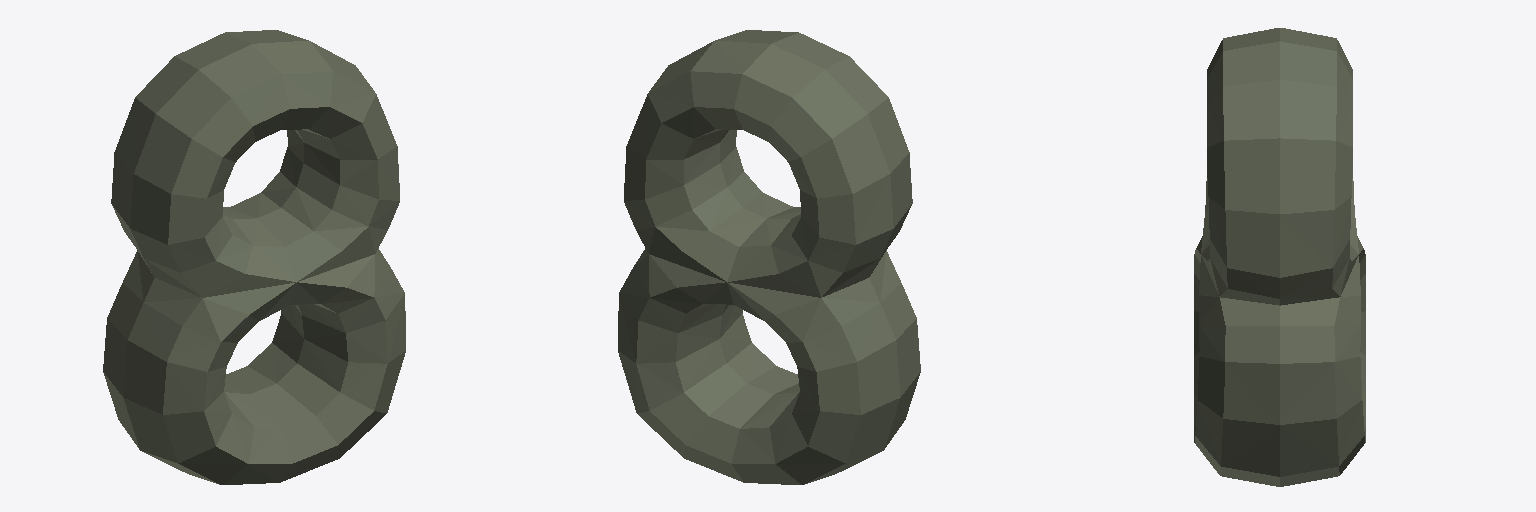
The model's file is Numbers_8.obj.
3 renders of one model, left to right at view 1: azimuth 30°, elevation 25°; view 2: azimuth 150°, elevation 25°; view 3: azimuth 270°, elevation 25°, orthographic.
Parts seen in each view (by area): view 1: Numbers_8_Cube.040; view 2: Numbers_8_Cube.040; view 3: Numbers_8_Cube.040.
Boxes of the visible parts, x1=… form: Numbers_8_Cube.040: x1=103, y1=30, x2=405, y2=484; Numbers_8_Cube.040: x1=618, y1=30, x2=920, y2=484; Numbers_8_Cube.040: x1=1194, y1=28, x2=1365, y2=486.
Size of the model in its own units: 0.7282 by 1.12 by 0.4068.